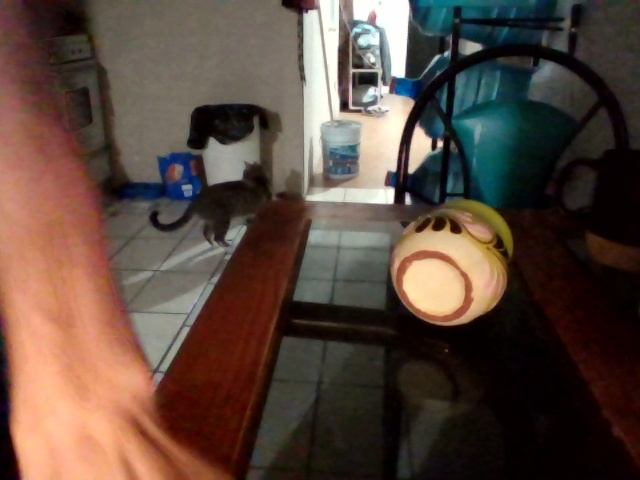taza: (320, 121, 362, 184)
